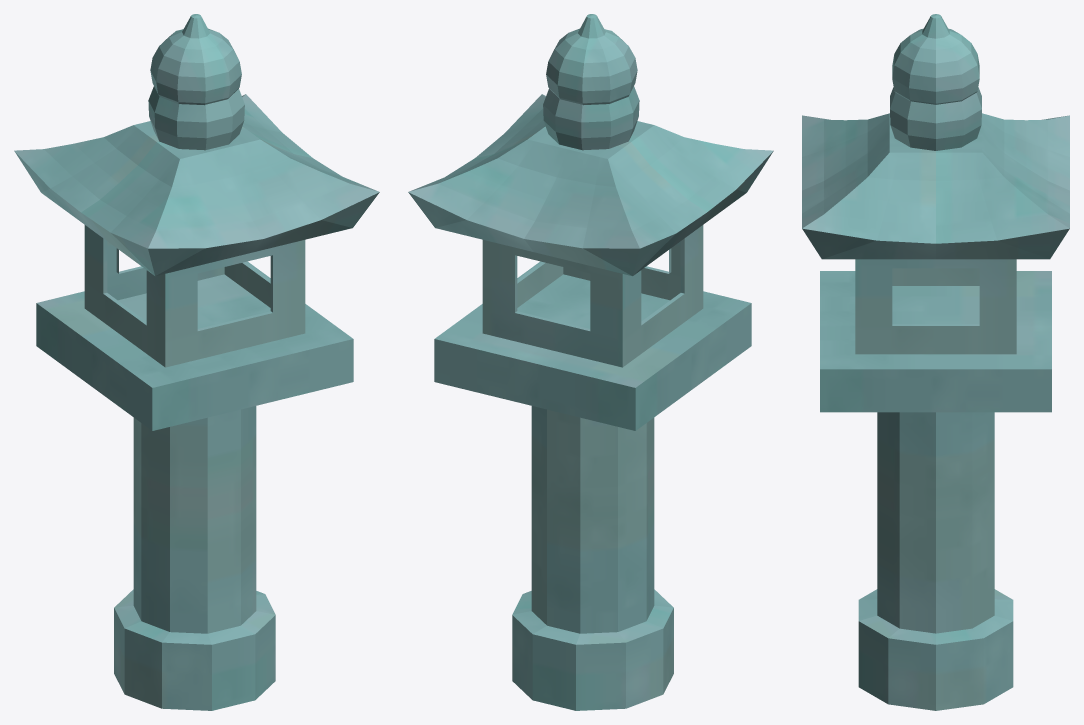
The model's file is SM_StoneLantern_01.fbx.
The picture shows the model from 3 angles, left to right: view 1: azimuth 30°, elevation 25°; view 2: azimuth 150°, elevation 25°; view 3: azimuth 270°, elevation 25°; orthographic projection.
Visible parts, largest first — view 1: SM_StoneLantern_01; view 2: SM_StoneLantern_01; view 3: SM_StoneLantern_01.
Part boxes in pixels (left/top/right/bottom): SM_StoneLantern_01: left=14, top=14, right=379, bottom=710; SM_StoneLantern_01: left=408, top=14, right=773, bottom=710; SM_StoneLantern_01: left=802, top=14, right=1069, bottom=710.
Size of the model in its own units: 54.9 by 150 by 54.9.
